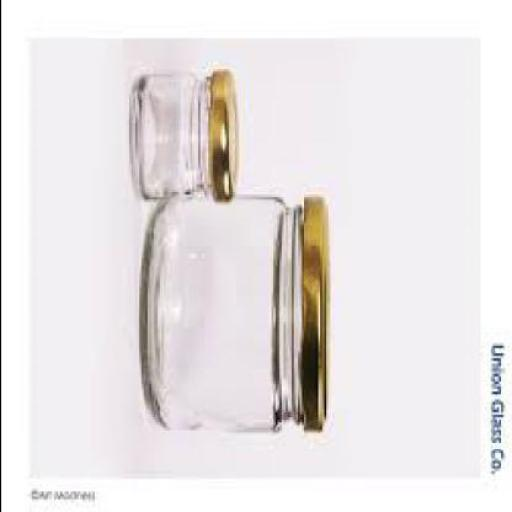glass: (143, 192, 303, 433), (132, 72, 211, 194)
metal: (296, 192, 328, 430), (211, 66, 238, 197)
